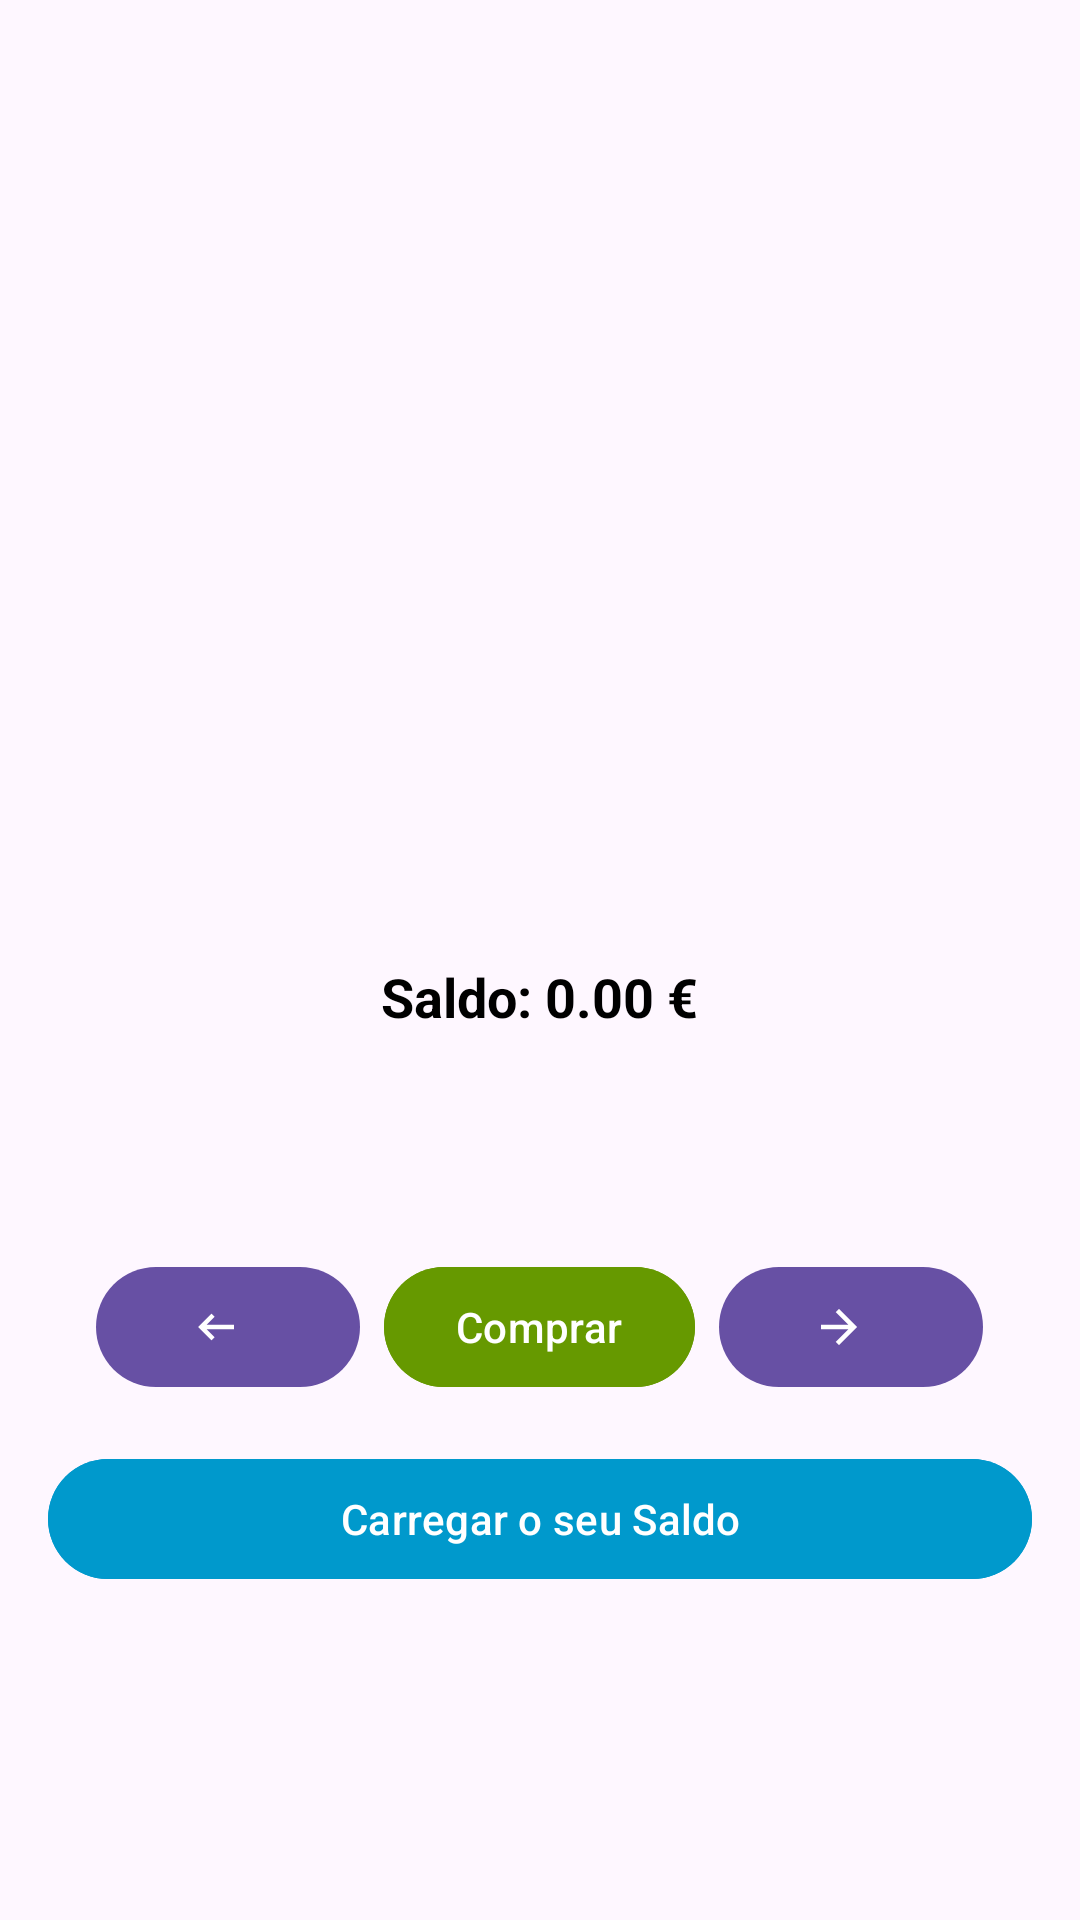

Icons on this 1080px x 1920px Android screen, each with its box as (x1, y1, x2, y2):
arrow forward: (719, 1267, 983, 1387)
arrow left: (96, 1267, 360, 1387)
